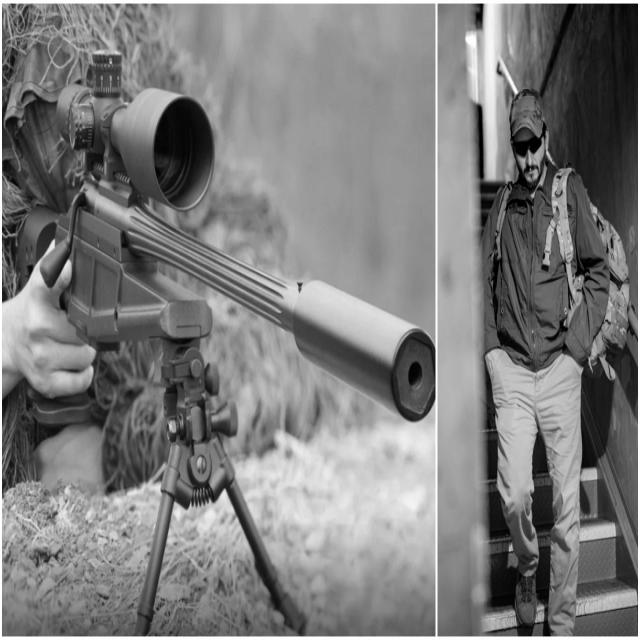Sniper: (19, 44, 433, 640)
